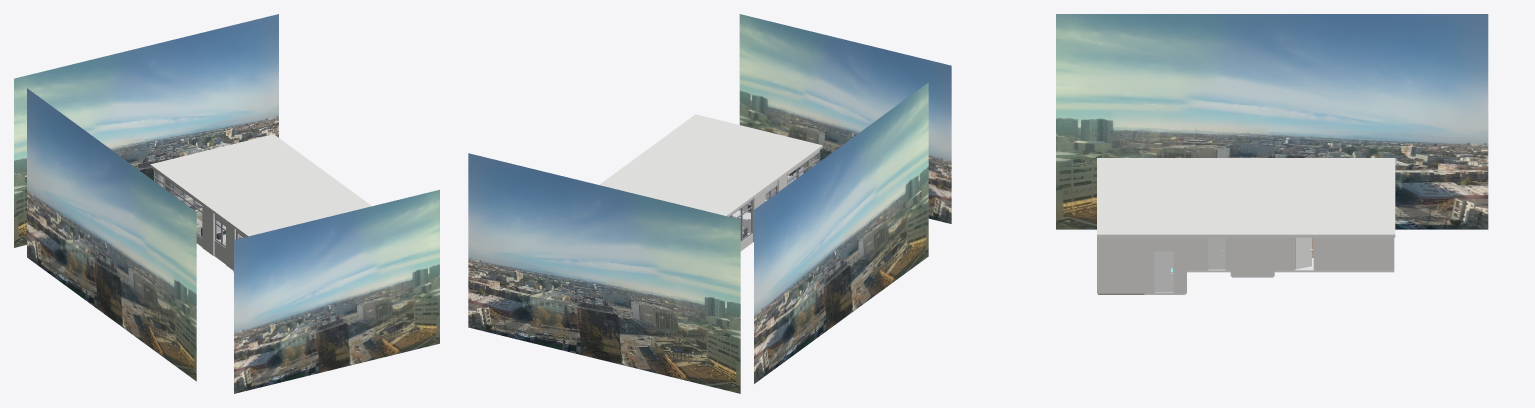
File: apartment_escape_room.glb
The picture shows the model from 3 angles, left to right: view 1: azimuth 30°, elevation 25°; view 2: azimuth 150°, elevation 25°; view 3: azimuth 270°, elevation 25°; orthographic projection. The views are drawn at different scales.
Visible parts, largest first — view 1: Skyline_SouthView, Skyline_WestView, Skyline_NorthView, Ceiling_Main, Wall_West_DiningArtPier, Win_LivingWest_Glass; view 2: Skyline_NorthView, Skyline_WestView, Skyline_SouthView, Ceiling_Main; view 3: Skyline_WestView, Ceiling_Main, Wall_LivingEast_North, Wall_BathEast, Wall_MusicNook_Back, Wall_EntryEast_North, Door_FrontEntry, Wall_KitchenEast_Corner, Wall_LivingEast_Whiteboard, Wall_EntryEast_South, Door_Pantry, Floor_LivingKitchenDining (+1 smaller).
Boxes of the visible parts, x1,y1,x2,y2 form: Skyline_SouthView: [234, 189, 439, 393]; Skyline_WestView: [27, 88, 196, 381]; Skyline_NorthView: [14, 14, 278, 247]; Ceiling_Main: [150, 134, 371, 236]; Wall_West_DiningArtPier: [202, 205, 214, 255]; Win_LivingWest_Glass: [155, 172, 201, 235]; Skyline_NorthView: [468, 153, 740, 393]; Skyline_WestView: [754, 82, 928, 383]; Skyline_SouthView: [739, 14, 951, 223]; Ceiling_Main: [599, 114, 822, 216]; Skyline_WestView: [1056, 14, 1488, 229]; Ceiling_Main: [1097, 158, 1395, 237]; Wall_LivingEast_North: [1314, 237, 1394, 270]; Wall_BathEast: [1098, 237, 1145, 293]; Wall_MusicNook_Back: [1232, 237, 1273, 276]; Wall_EntryEast_North: [1173, 237, 1186, 293]; Door_FrontEntry: [1155, 251, 1173, 292]; Wall_KitchenEast_Corner: [1187, 237, 1208, 270]; Wall_LivingEast_Whiteboard: [1274, 237, 1294, 270]; Wall_EntryEast_South: [1142, 237, 1154, 293]; Door_Pantry: [1208, 237, 1225, 269]; Floor_LivingKitchenDining: [1187, 258, 1394, 272].
Bounding box in the file's own units: 18 × 11 × 25.
45 materials, 5 textured.
